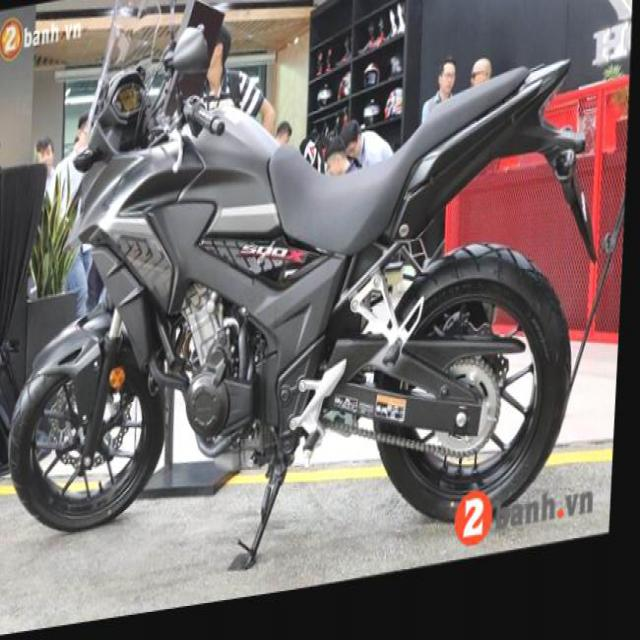CB500X: (0, 0, 623, 619)
